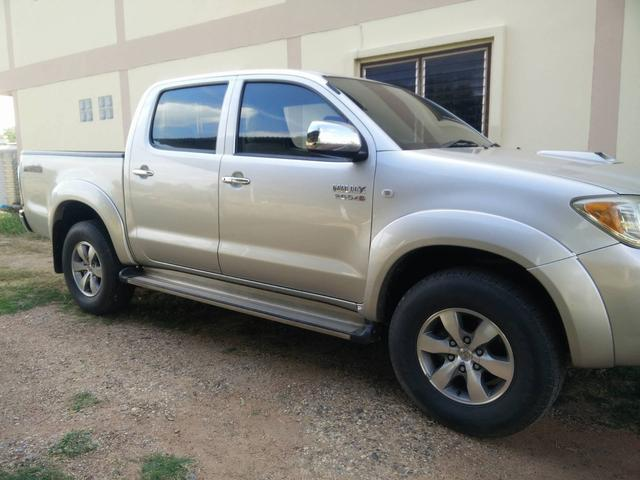pickup: (15, 64, 640, 440)
